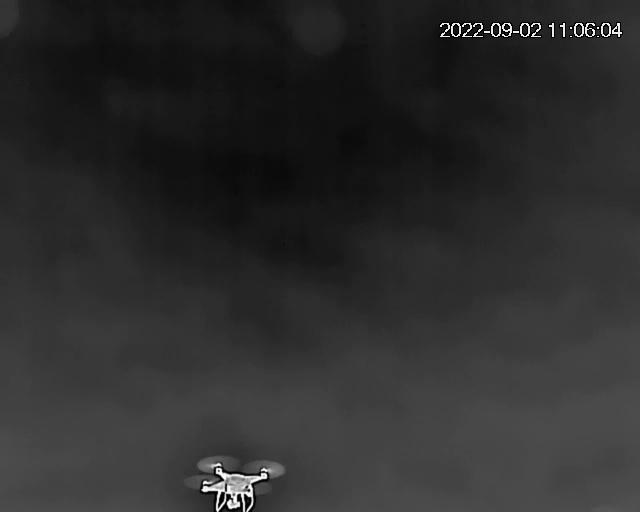DJI-Phantom: (185, 451, 289, 512)
